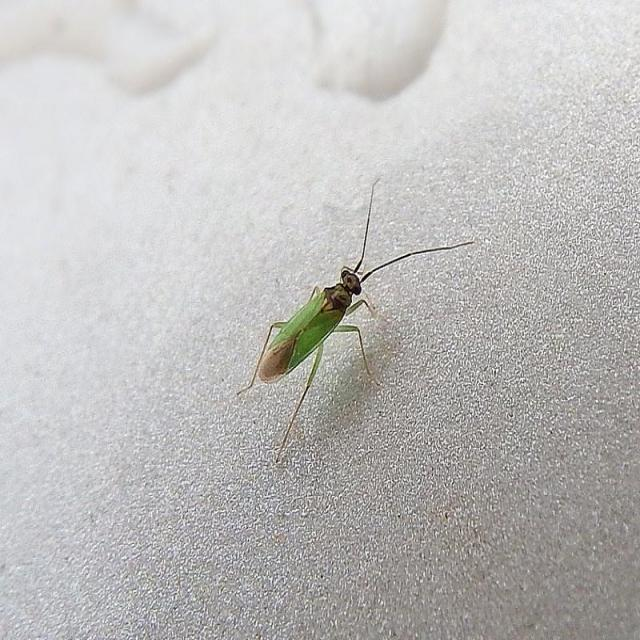Miridae-Adult-: (232, 176, 436, 429)
